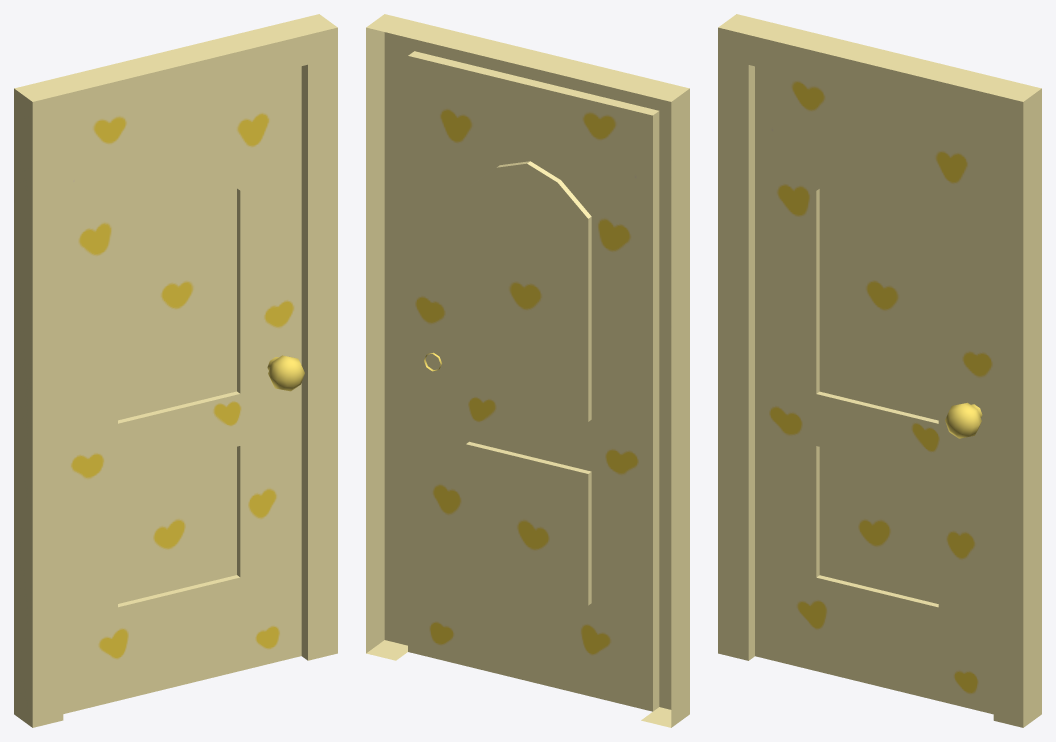
Rendered from Porta.fbx.
3 views of the same model, side by side, from view 1: azimuth 30°, elevation 25°; view 2: azimuth 150°, elevation 25°; view 3: azimuth 330°, elevation 25° (orthographic).
Visible parts, largest first — view 1: DoorRoom; view 2: DoorRoom; view 3: DoorRoom.
Part boxes in pixels (<box>): DoorRoom: <box>14,14,337,727</box>; DoorRoom: <box>366,14,689,727</box>; DoorRoom: <box>718,14,1041,727</box>.
Size of the model in its own units: 194 by 379 by 33.9.
